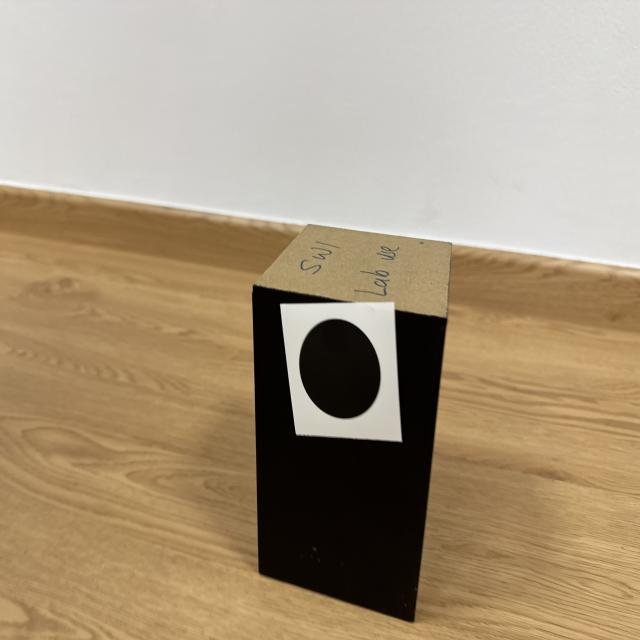CIRCLE: (299, 318, 380, 418)
